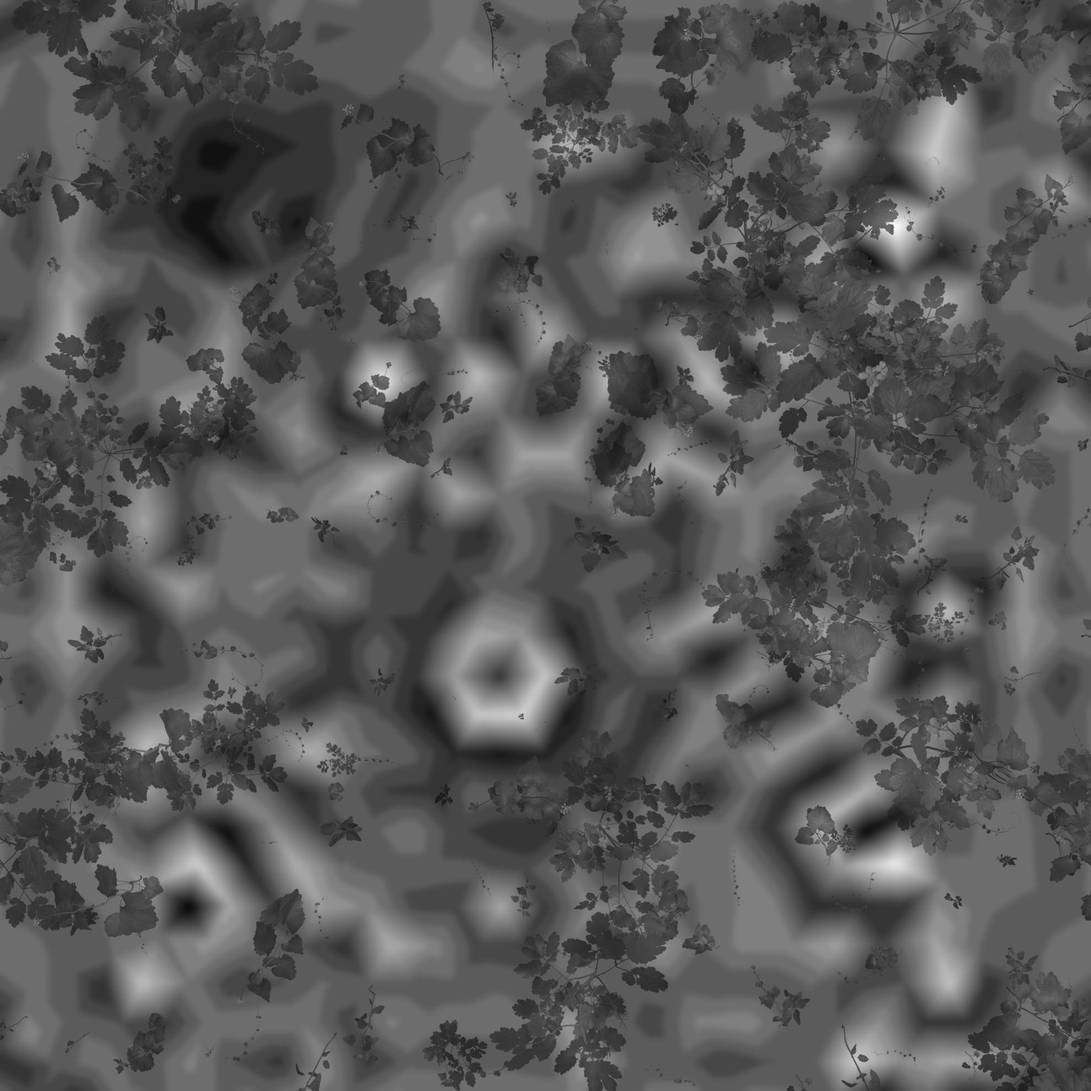landmine: (401, 573, 596, 772), (151, 111, 321, 273)
